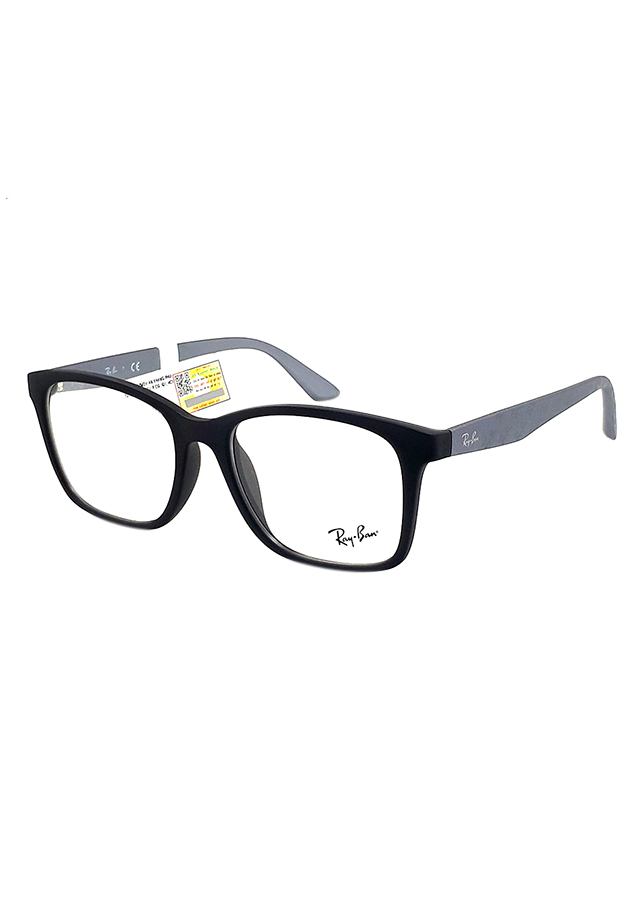Rayban: (323, 517, 389, 555), (457, 425, 483, 452)
